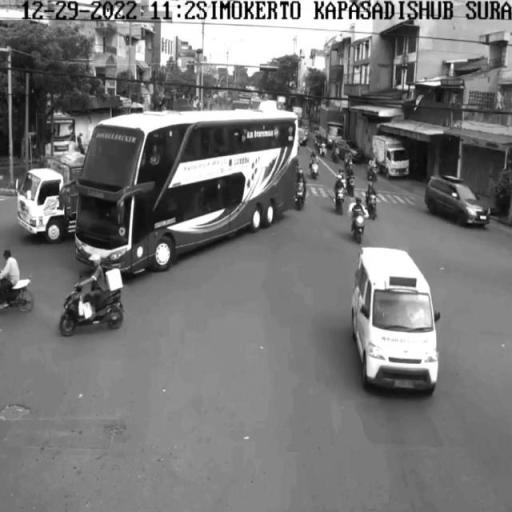bus: (92, 120, 288, 236)
car: (354, 243, 446, 416), (427, 167, 492, 238)
motorcycle: (47, 283, 134, 337), (0, 266, 35, 321), (352, 196, 369, 238), (367, 179, 381, 220), (334, 173, 346, 219), (310, 144, 322, 182), (368, 156, 382, 188)
truck: (10, 138, 66, 241), (374, 136, 410, 184)
